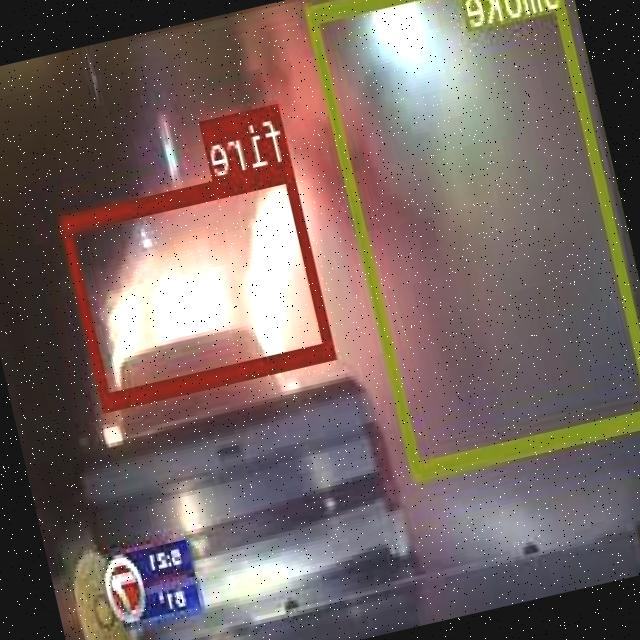fire: (60, 160, 336, 406)
smoke: (305, 0, 640, 478)
